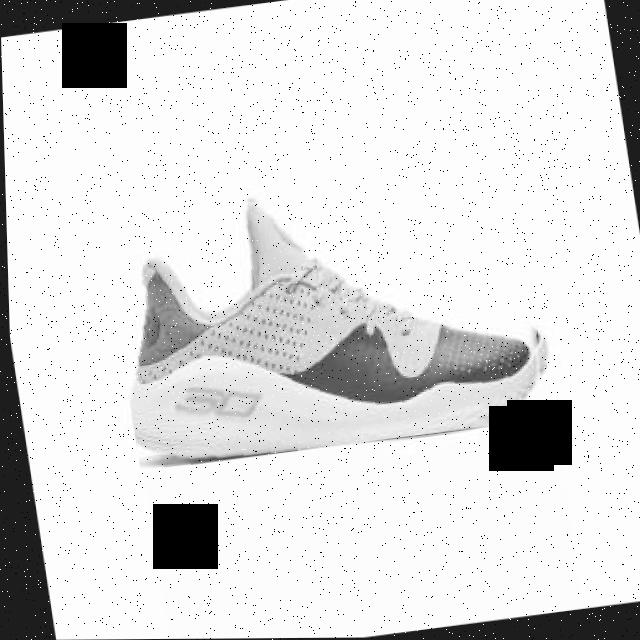shoe: (98, 161, 557, 471)
